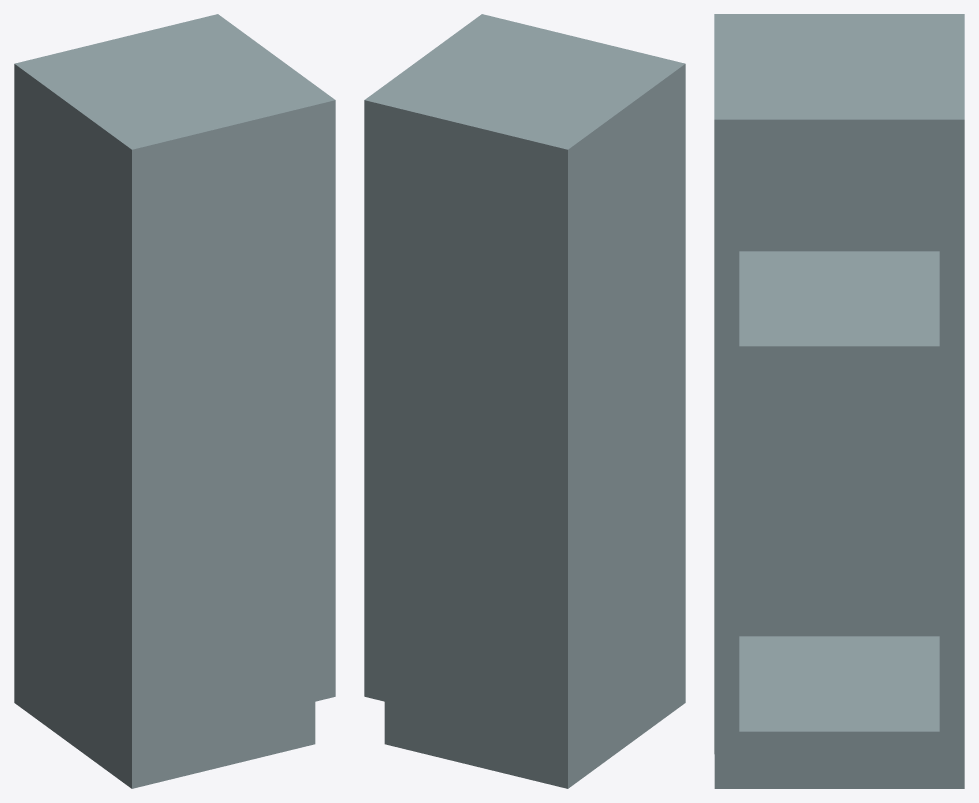
The model's file is cabinet_Body.ver2.fbx.
The picture shows the model from 3 angles, left to right: view 1: azimuth 30°, elevation 25°; view 2: azimuth 150°, elevation 25°; view 3: azimuth 270°, elevation 25°; orthographic projection. The views are drawn at different scales.
Parts seen in each view (by area): view 1: Cube.001, Cube, Cube.004, Cube.003, Cube.002; view 2: Cube.002, Cube, Cube.004, Cube.003, Cube.001, Cube.005; view 3: Cube, Cube.003, Cube.004, Cube.005, Cube.002, Cube.001.
Boxes of the visible parts, x1,y1,x2,y2 form: Cube.001: [120, 91, 335, 746]; Cube: [14, 69, 151, 744]; Cube.004: [15, 22, 334, 163]; Cube.003: [14, 660, 315, 788]; Cube.002: [14, 14, 229, 437]; Cube.002: [364, 91, 579, 743]; Cube: [547, 59, 685, 724]; Cube.004: [365, 22, 673, 164]; Cube.003: [384, 639, 685, 788]; Cube.001: [470, 14, 685, 661]; Cube.005: [378, 277, 685, 379]; Cube: [714, 14, 939, 636]; Cube.003: [714, 636, 964, 788]; Cube.004: [714, 14, 964, 142]; Cube.005: [714, 251, 963, 368]; Cube.002: [939, 14, 964, 754]; Cube.001: [714, 14, 739, 754].
Size of the model in its own units: 200 by 600 by 200.
